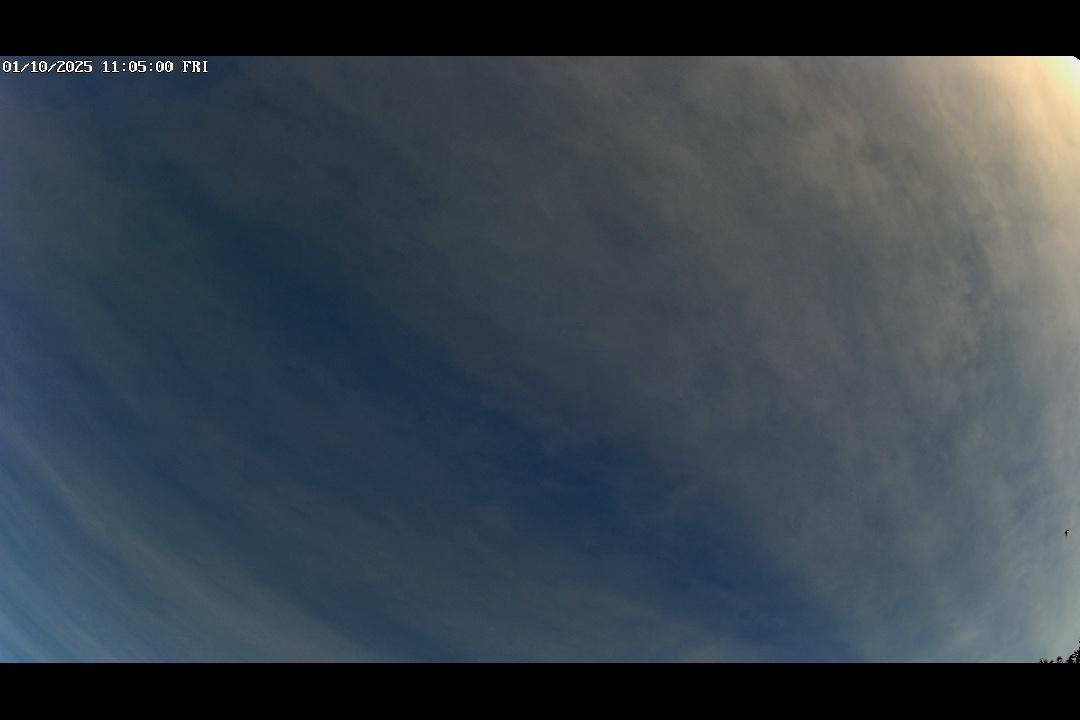WildLife: (1051, 521, 1078, 540)
